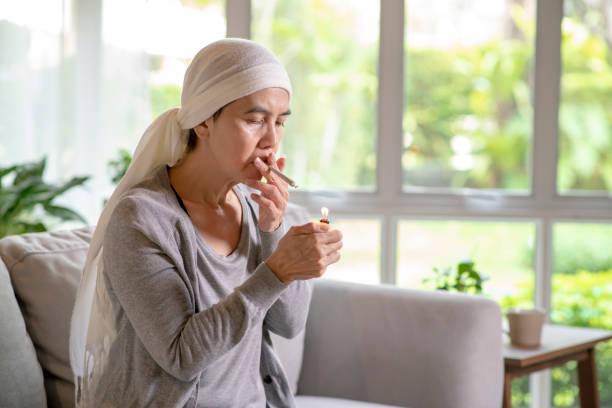cigarette: (268, 166, 300, 189)
